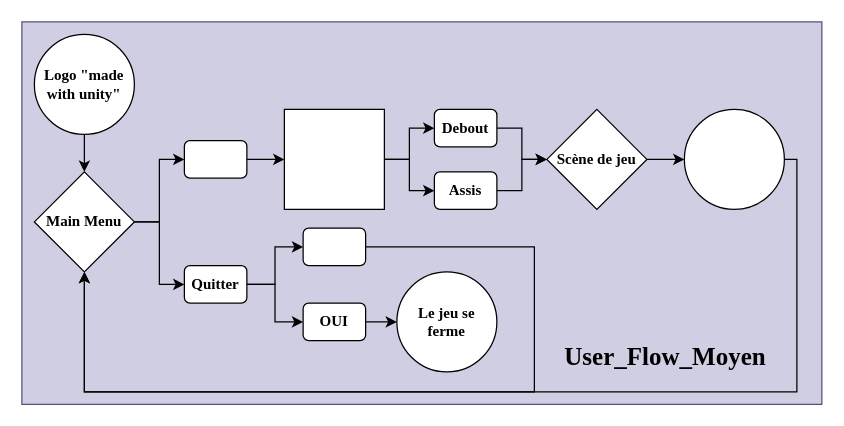
Some shapes in this 844 by 426 pixel diagram are drawn without their labels. The shapes that lost their labels are listed below. From the top down, each one's centre as x and y in pixels, then its label:
At pixel 215 158: "Jouer".
At pixel 333 158: "Message à l'intention du joueur".
At pixel 733 158: "Le jeu est terminer".
At pixel 334 246: "NON".
